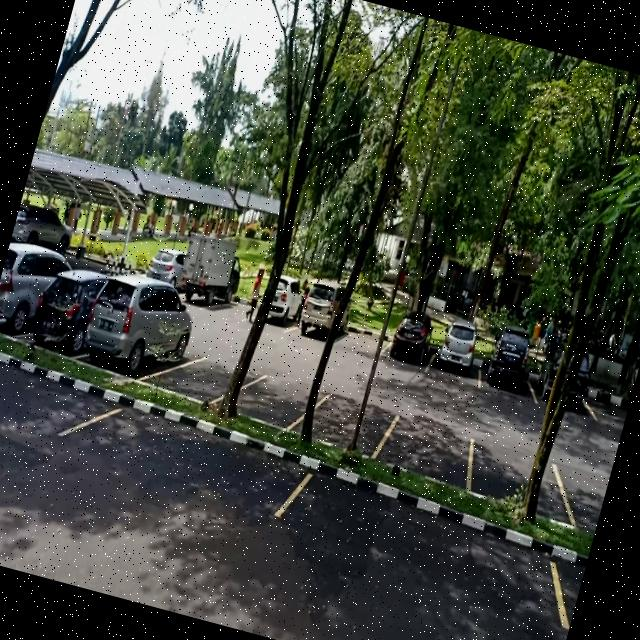empty: (280, 456, 579, 616), (70, 401, 310, 530), (377, 402, 481, 492), (464, 434, 572, 518), (303, 380, 395, 464), (234, 366, 314, 436), (165, 342, 238, 409), (334, 316, 394, 364)
occupied: (76, 276, 196, 388), (24, 261, 100, 358), (424, 316, 492, 388), (478, 334, 540, 399), (380, 308, 440, 373)
